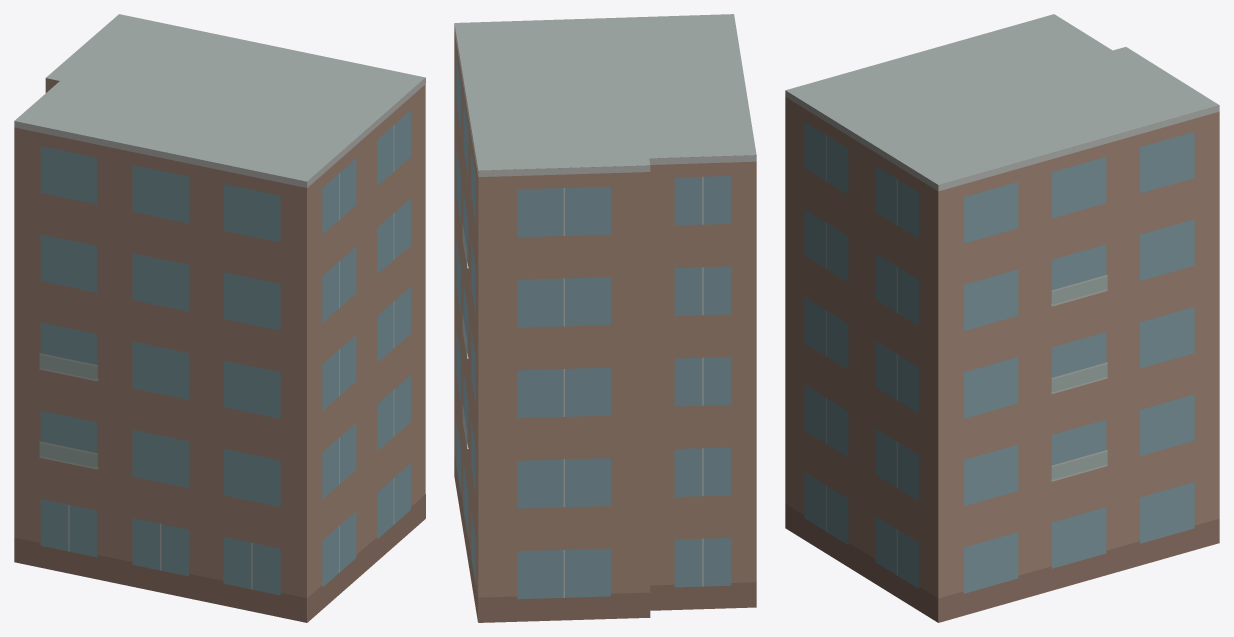
Rendered from survey-upis-32886704.glb.
3 views of the same model, side by side, from view 1: azimuth 30°, elevation 25°; view 2: azimuth 150°, elevation 25°; view 3: azimuth 270°, elevation 25° (orthographic). The views are drawn at different scales.
Visible parts, largest first — view 1: survey-upis-32886704.tmp; view 2: survey-upis-32886704.tmp; view 3: survey-upis-32886704.tmp.
Boxes of the visible parts, x1,y1,x2,y2 form: survey-upis-32886704.tmp: [14, 14, 425, 622]; survey-upis-32886704.tmp: [454, 14, 756, 622]; survey-upis-32886704.tmp: [785, 14, 1219, 622].
Bounding box in the file's own units: 14 × 16.7 × 15.02.
